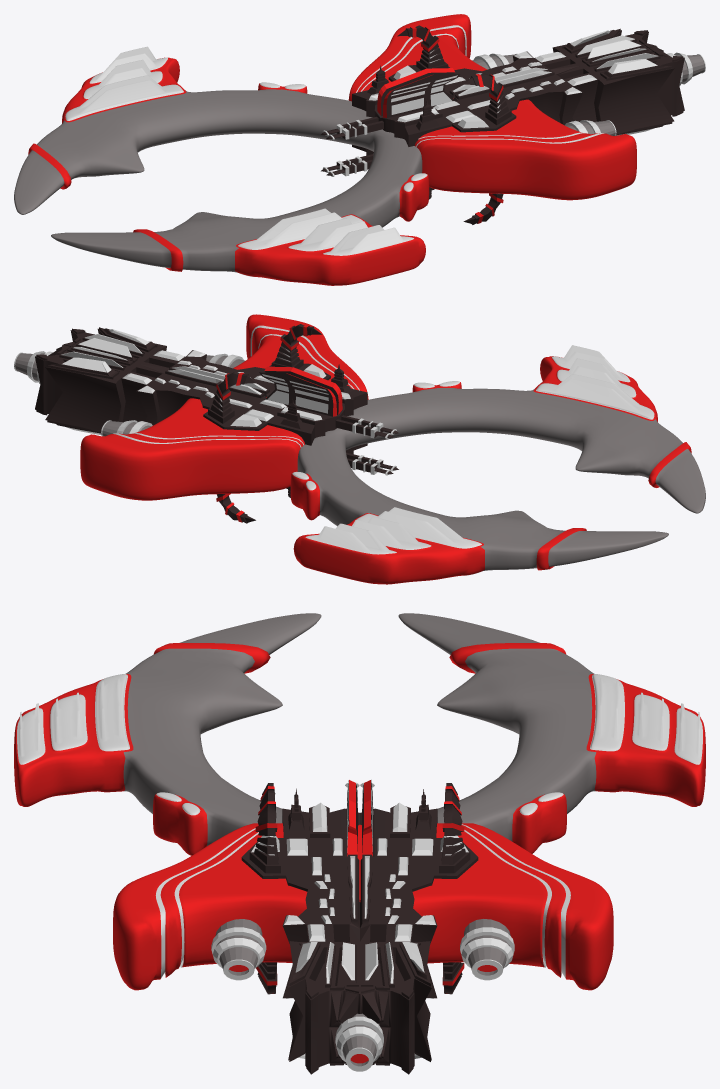
The model's file is red_goliath_spaceship_-_darkorbit_game.glb.
3 renders of one model, top to bottom at view 1: azimuth 30°, elevation 25°; view 2: azimuth 150°, elevation 25°; view 3: azimuth 270°, elevation 25°, orthographic. The views are drawn at different scales.
Visible parts, largest first — view 1: Cube.001, Cube.002, Cube, Cylinder; view 2: Cube.001, Cube.002, Cube, Cylinder; view 3: Cube.001, Cube.002, Cube, Cylinder.
Boxes of the visible parts, x1,y1,x2,y2 form: Cube.001: [14, 46, 429, 285]; Cube.002: [321, 25, 684, 224]; Cube: [348, 14, 636, 200]; Cylinder: [472, 52, 705, 135]; Cube.001: [290, 345, 705, 584]; Cube.002: [35, 324, 398, 523]; Cube: [80, 314, 368, 500]; Cylinder: [14, 351, 245, 436]; Cube.001: [14, 613, 705, 855]; Cube.002: [241, 780, 478, 1074]; Cube: [113, 823, 613, 990]; Cylinder: [211, 919, 514, 1071].
Bounding box in the file's own units: 11.1 × 2.36 × 7.3.
